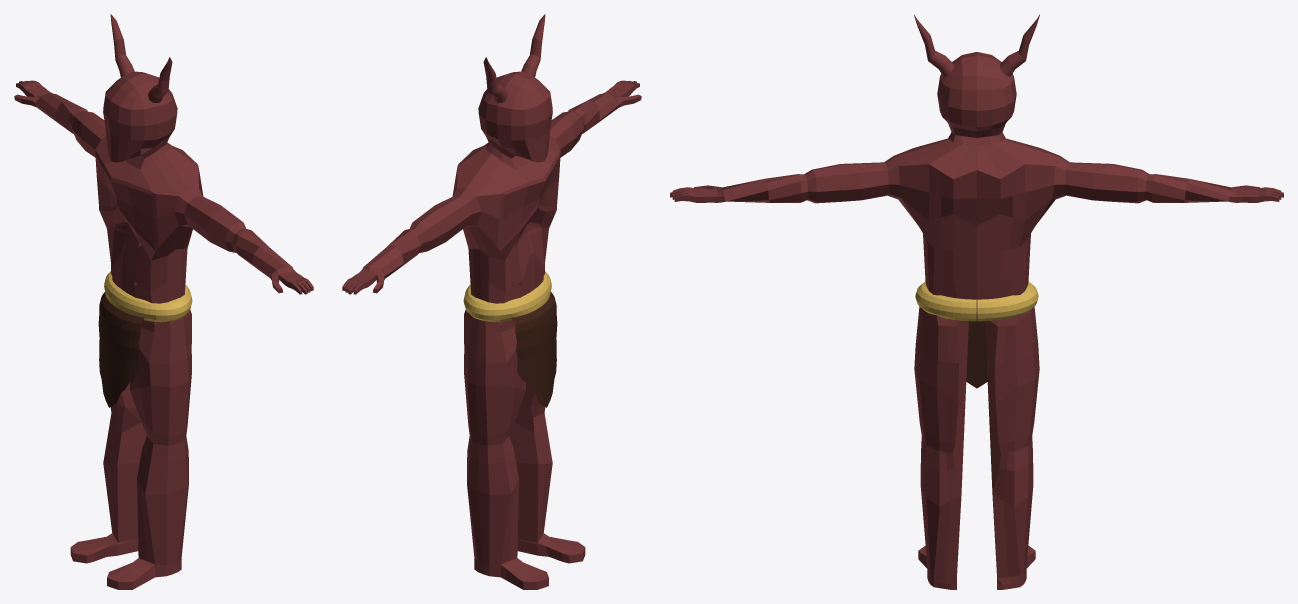
The model's file is demon.fbx.
3 renders of one model, left to right at view 1: azimuth 30°, elevation 25°; view 2: azimuth 150°, elevation 25°; view 3: azimuth 270°, elevation 25°, orthographic. The views are drawn at different scales.
Visible parts, largest first — view 1: Cube; view 2: Cube; view 3: Cube.
Part boxes in pixels (x1,y1,x2,y2): Cube: (14,14,313,589); Cube: (342,14,641,589); Cube: (670,14,1283,589).
Size of the model in its own units: 252 by 1314 by 1296.
